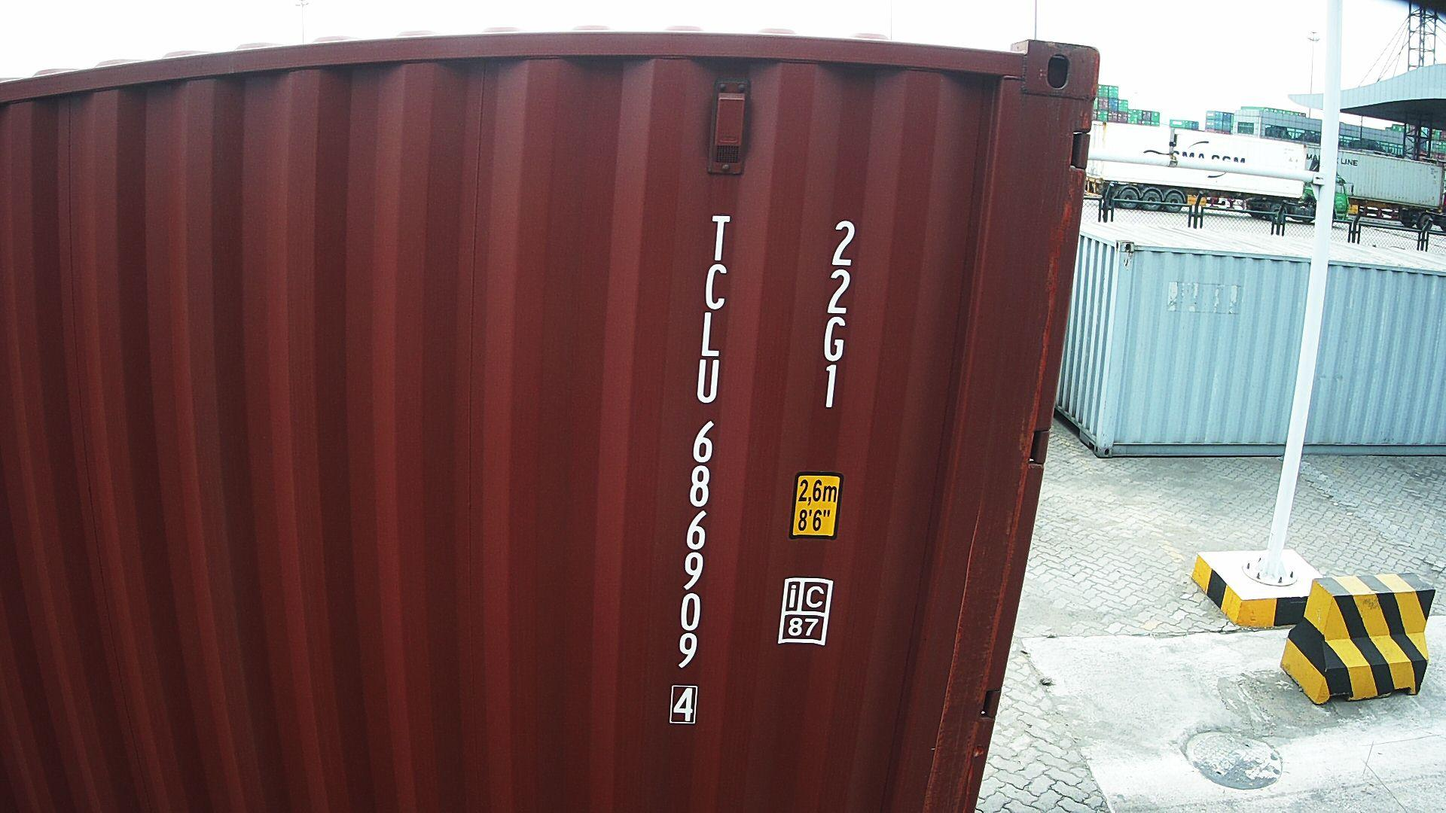container-numbers: (666, 210, 732, 732), (810, 217, 860, 415)
